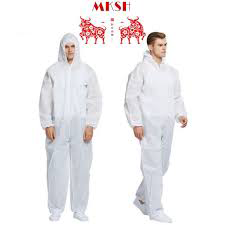Coverall: (38, 32, 100, 210), (123, 49, 188, 206)
